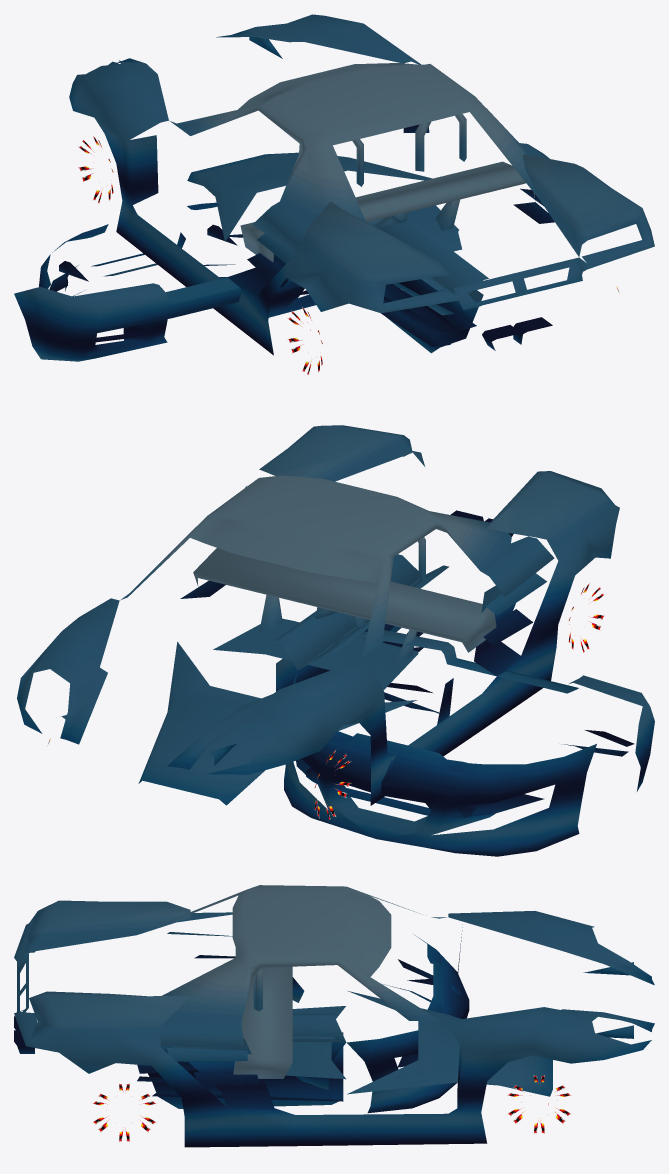
Rendered from car-SPRT_Car8.glb.
3 views of the same model, one above another, from view 1: azimuth 30°, elevation 25°; view 2: azimuth 150°, elevation 25°; view 3: azimuth 270°, elevation 25° (orthographic). The views are drawn at different scales.
Visible parts, largest first — view 1: SPRT_Car8; view 2: SPRT_Car8; view 3: SPRT_Car8.
Part boxes in pixels (x1,y1,x2,y2): SPRT_Car8: [14, 14, 654, 374]; SPRT_Car8: [17, 425, 654, 856]; SPRT_Car8: [14, 885, 654, 1147].
Bounding box in the file's own units: 3.15 × 1.35 × 3.92.
19 materials, 19 textured.
